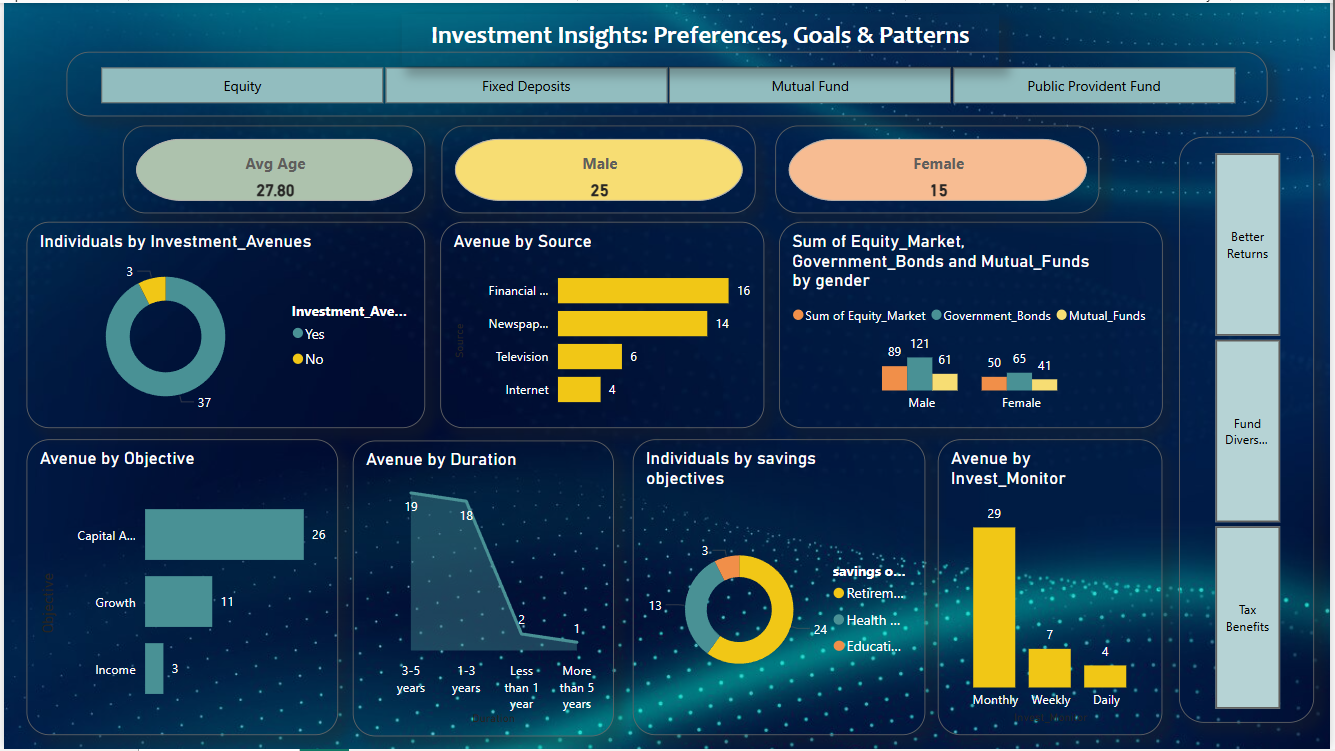

Layout of this report page (visuals, bound fields, positions):
{"tool":"powerbi","page":{"name":"Final Dashboard","canvas":[1280,720],"ordinal":0},"visuals":[{"type":"donutChart","fields":{"Category":["Data_set 2.What are your savings objectives?"],"Y":["CountNonNull(Data_set 2.gender)"]},"box":[606.8,421,282.3,285.9],"z":0},{"type":"donutChart","fields":{"Category":["Data_set 2.Investment_Avenues"],"Y":["CountNonNull(Data_set 2.gender)"]},"box":[21.7,211.1,384.9,199.1],"z":1000},{"type":"cardVisual","fields":{"Data":["Data_set 2.Avg Age"]},"box":[114.6,118.2,292,84.5],"z":2000},{"type":"clusteredColumnChart","fields":{"Y":["Sum(Data_set 2.Equity_Market)","Sum(Data_set 2.Government_Bonds)","Sum(Data_set 2.Mutual_Funds)"],"Category":["Data_set 2.gender"]},"box":[748,211.1,370.4,199.1],"z":3000},{"type":"cardVisual","fields":{"Data":["Data_set 2.Male"]},"box":[422.3,118.2,302.8,84.5],"z":4000},{"type":"cardVisual","fields":{"Data":["Data_set 2.Female"]},"box":[744.4,118.2,312.5,84.5],"z":5000},{"type":"clusteredBarChart","fields":{"Category":["Data_set 2.Objective"],"Y":["CountNonNull(Data_set 2.Avenue)"]},"box":[21.7,421,300.4,285.9],"z":6000},{"type":"slicer","fields":{"Values":["Data_set 2.Avenue"]},"box":[60.3,47.1,1159.4,62.7],"z":7000},{"type":"areaChart","fields":{"Category":["Data_set 2.Duration"],"Y":["CountNonNull(Data_set 2.Avenue)"]},"box":[336.6,422.3,252.1,285.9],"z":8000},{"type":"clusteredColumnChart","fields":{"Category":["Data_set 2.Invest_Monitor"],"Y":["CountNonNull(Data_set 2.Avenue)"]},"box":[901.2,421,217.2,285.9],"z":9000},{"type":"slicer","fields":{"Values":["Data_set 2.Reason_Mutual"]},"box":[1134.1,129.1,130.3,565.8],"z":10000},{"type":"clusteredBarChart","fields":{"Category":["Data_set 2.Source"],"Y":["CountNonNull(Data_set 2.Avenue)"]},"box":[421,211.1,312.5,199.1],"z":11000},{"type":"textbox","box":[383.6,10.9,576.7,49.5],"z":12000}]}

Visuals, with their boxes in screenshot pixels (x1, y1, x2, y2), scaled from the page's 1280x720 canvas onto the 1335x751 screenshot:
donutChart - Data_set 2.What are your savings objectives? x CountNonNull(Data_set 2.gender): {"left": 633, "top": 439, "right": 927, "bottom": 737}
donutChart - Data_set 2.Investment_Avenues x CountNonNull(Data_set 2.gender): {"left": 23, "top": 220, "right": 424, "bottom": 428}
cardVisual - Data_set 2.Avg Age: {"left": 120, "top": 123, "right": 424, "bottom": 211}
clusteredColumnChart - Sum(Data_set 2.Equity_Market) x Sum(Data_set 2.Government_Bonds): {"left": 780, "top": 220, "right": 1166, "bottom": 428}
cardVisual - Data_set 2.Male: {"left": 440, "top": 123, "right": 756, "bottom": 211}
cardVisual - Data_set 2.Female: {"left": 776, "top": 123, "right": 1102, "bottom": 211}
clusteredBarChart - Data_set 2.Objective x CountNonNull(Data_set 2.Avenue): {"left": 23, "top": 439, "right": 336, "bottom": 737}
slicer - Data_set 2.Avenue: {"left": 63, "top": 49, "right": 1272, "bottom": 115}
areaChart - Data_set 2.Duration x CountNonNull(Data_set 2.Avenue): {"left": 351, "top": 440, "right": 614, "bottom": 739}
clusteredColumnChart - Data_set 2.Invest_Monitor x CountNonNull(Data_set 2.Avenue): {"left": 940, "top": 439, "right": 1166, "bottom": 737}
slicer - Data_set 2.Reason_Mutual: {"left": 1183, "top": 135, "right": 1319, "bottom": 725}
clusteredBarChart - Data_set 2.Source x CountNonNull(Data_set 2.Avenue): {"left": 439, "top": 220, "right": 765, "bottom": 428}
textbox: {"left": 400, "top": 11, "right": 1002, "bottom": 63}
